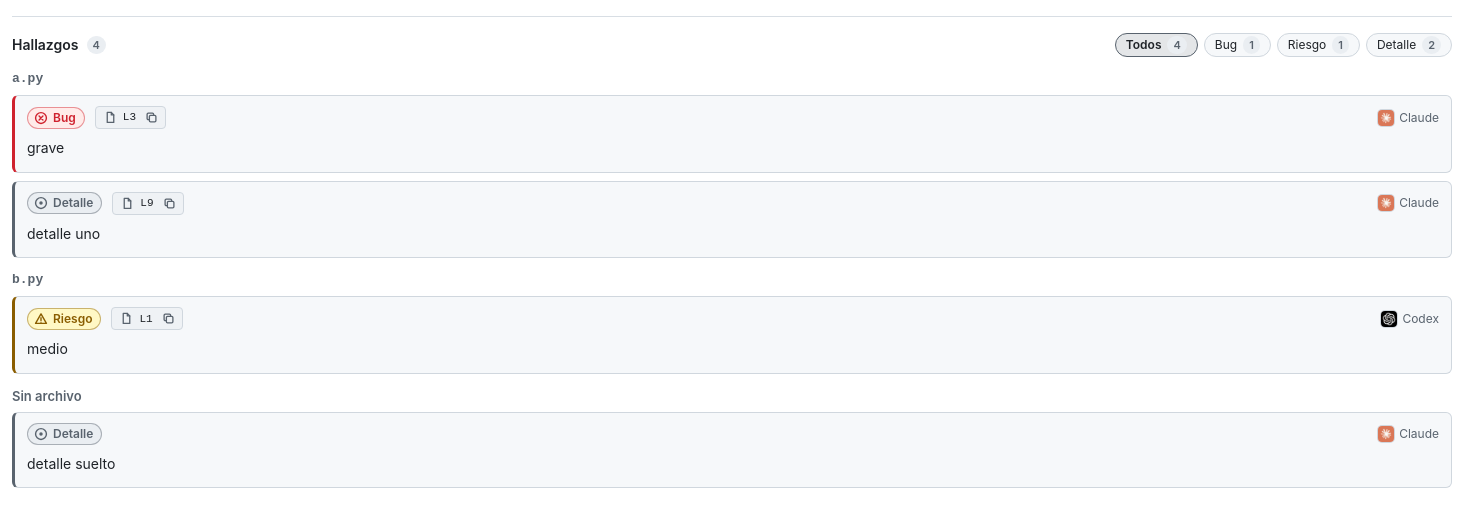
it: FindingsPanel › pressing the active severity again, or «Todos», shows everything
The image size is (1464, 505).
Click the button "Bug 1" at coordinates (1237, 45), box [1204, 33, 1271, 57]
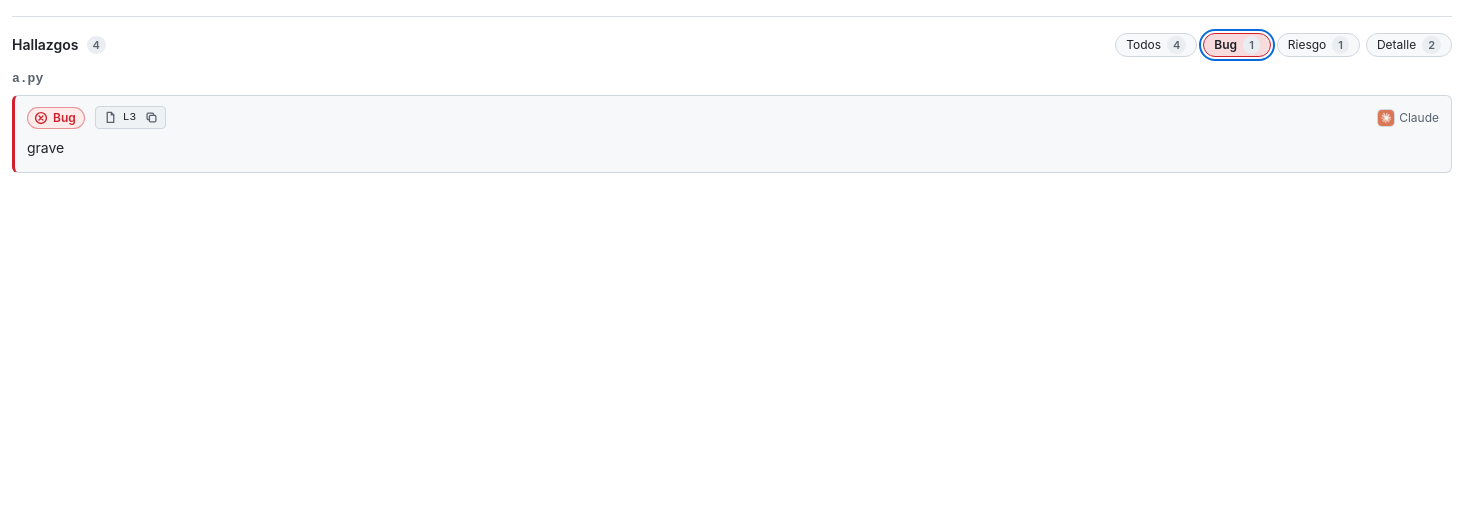
Click the button "Bug 1" at coordinates (1237, 45), box [1203, 33, 1271, 57]
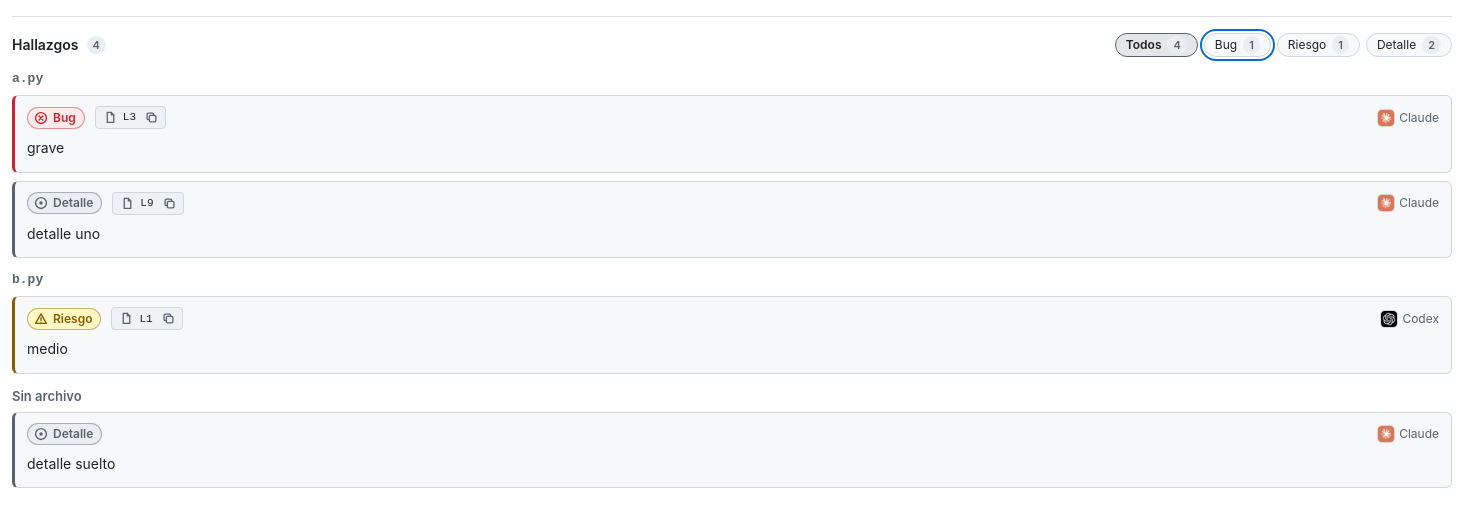
Expected: the text "medio" is shown, [27, 340, 68, 357]
Click the button "Bug 1" at coordinates (1237, 45), box [1204, 33, 1271, 57]
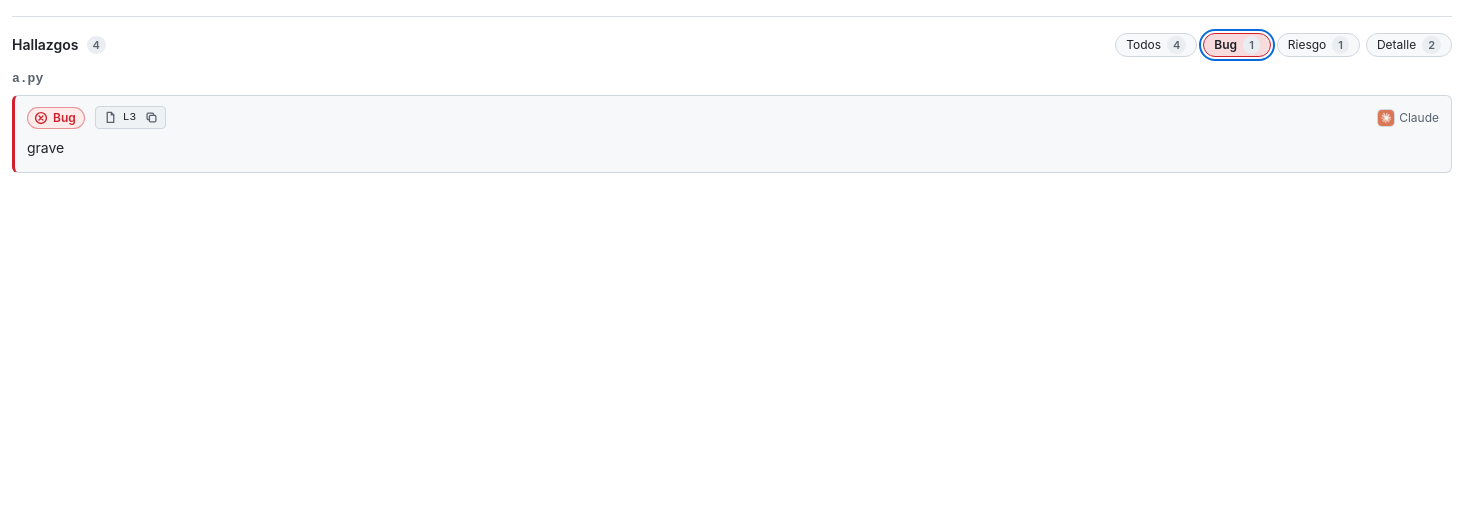
Click the button "Todos 4" at coordinates (1156, 45), box [1115, 33, 1197, 57]
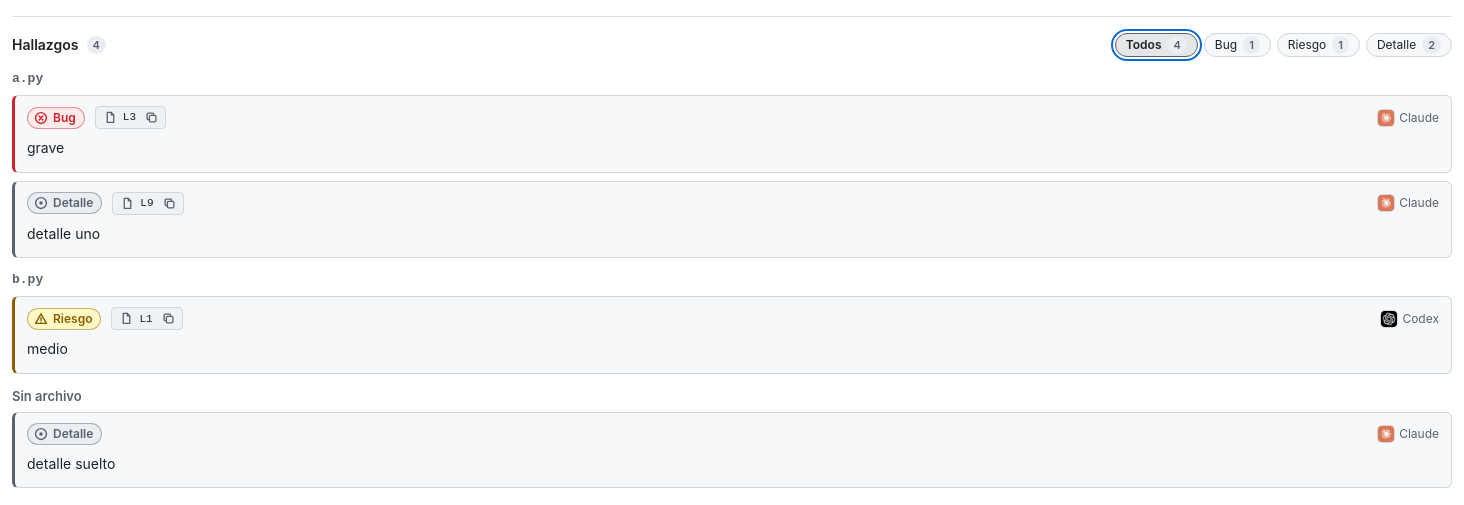
Expected: the text "detalle uno" is shown, [27, 225, 100, 242]
